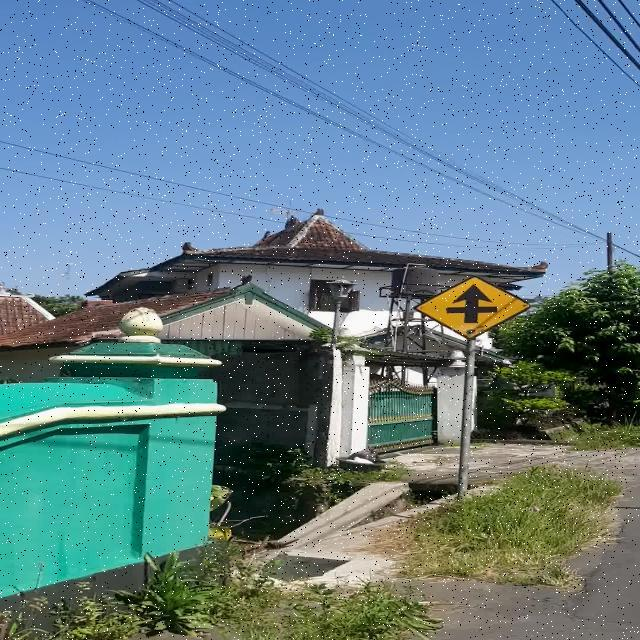Persimpangan 3 Prioritas: (413, 275, 530, 339)
